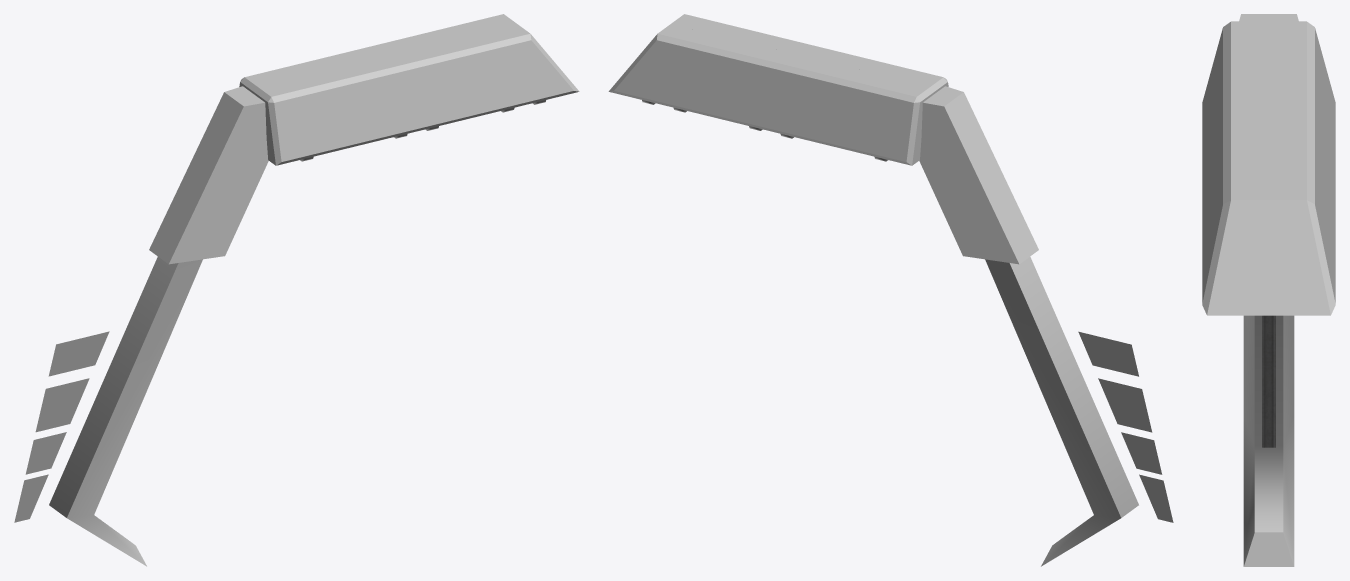
The model's file is Lamppost.fbx.
3 renders of one model, left to right at view 1: azimuth 30°, elevation 25°; view 2: azimuth 150°, elevation 25°; view 3: azimuth 270°, elevation 25°, orthographic. The views are drawn at different scales.
Visible parts, largest first — view 1: Lamppost; view 2: Lamppost; view 3: Lamppost.
Part boxes in pixels (x1,y1,x2,y2): Lamppost: (14, 14, 579, 566); Lamppost: (608, 14, 1173, 566); Lamppost: (1202, 14, 1335, 566).
Bounding box in the file's own units: 8.26 × 6.45 × 1.24.
